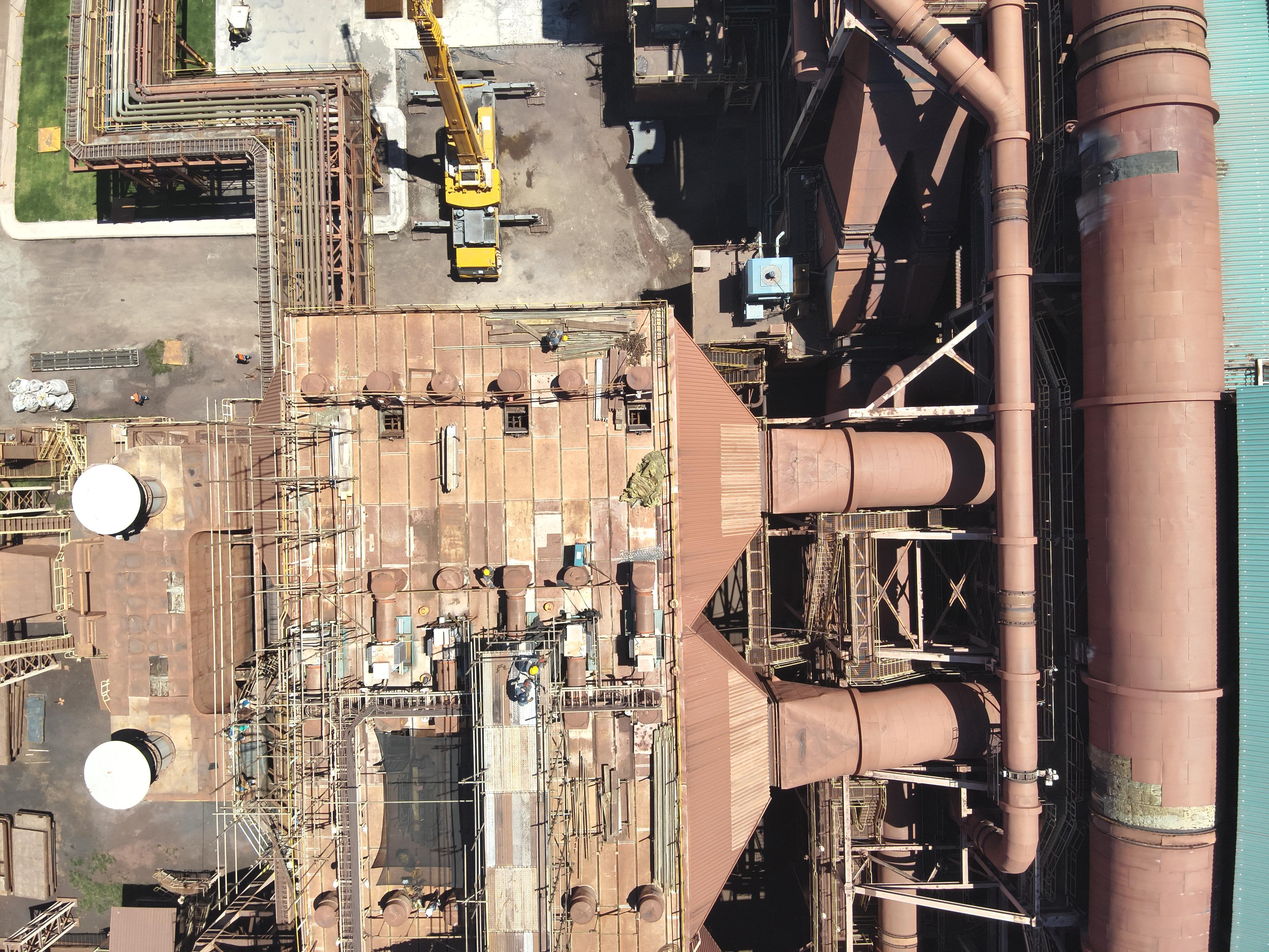Failures: (1088, 740, 1232, 832), (1077, 148, 1181, 179), (1071, 175, 1111, 242)
